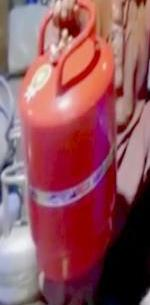cylinder: (1, 1, 150, 305)
